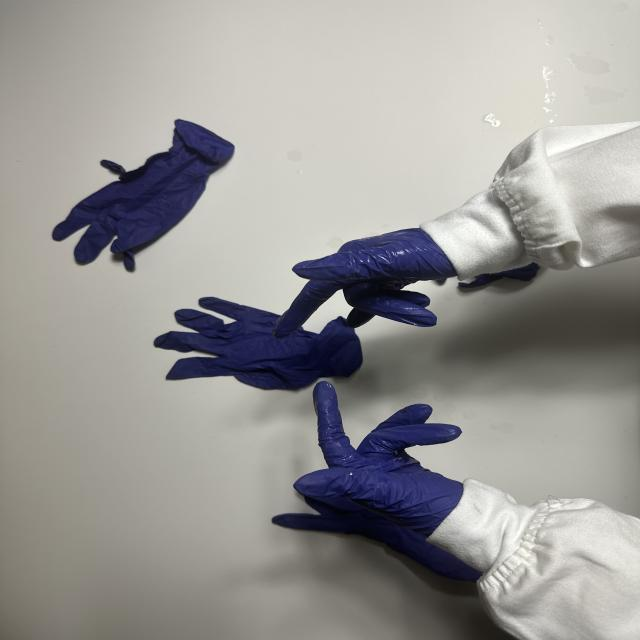gloves_contaminated: (294, 382, 463, 537), (276, 228, 457, 337)
